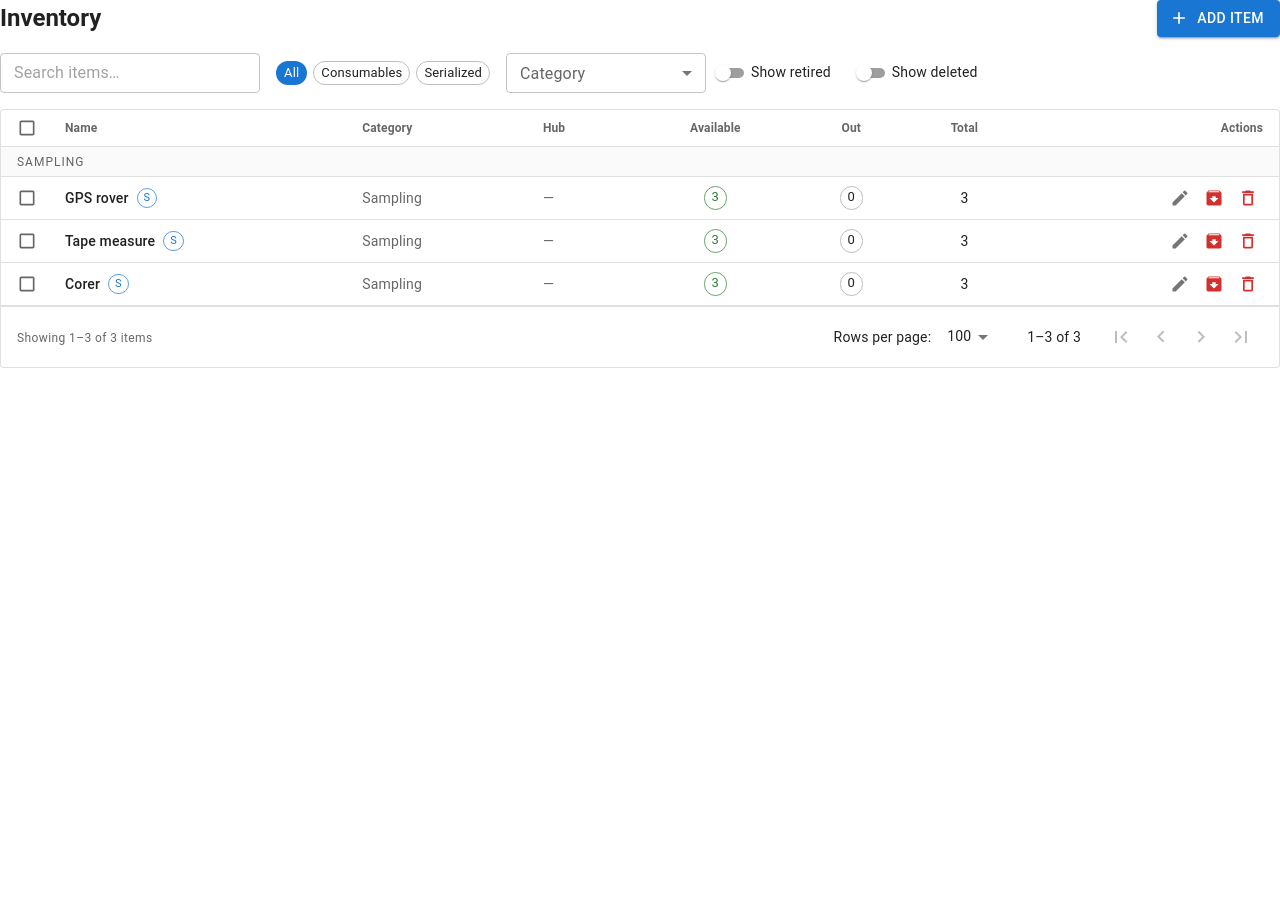
Test: Delete — the dialog, Undo and refusals (D-o · D-s) › Undo on the toast posts restore
Expected: the text "GPS rover" is shown, [65,188,129,208]
Click the button named "Delete" in the row of "GPS rover".
click(1248, 198)  # box [1233,183,1263,213]
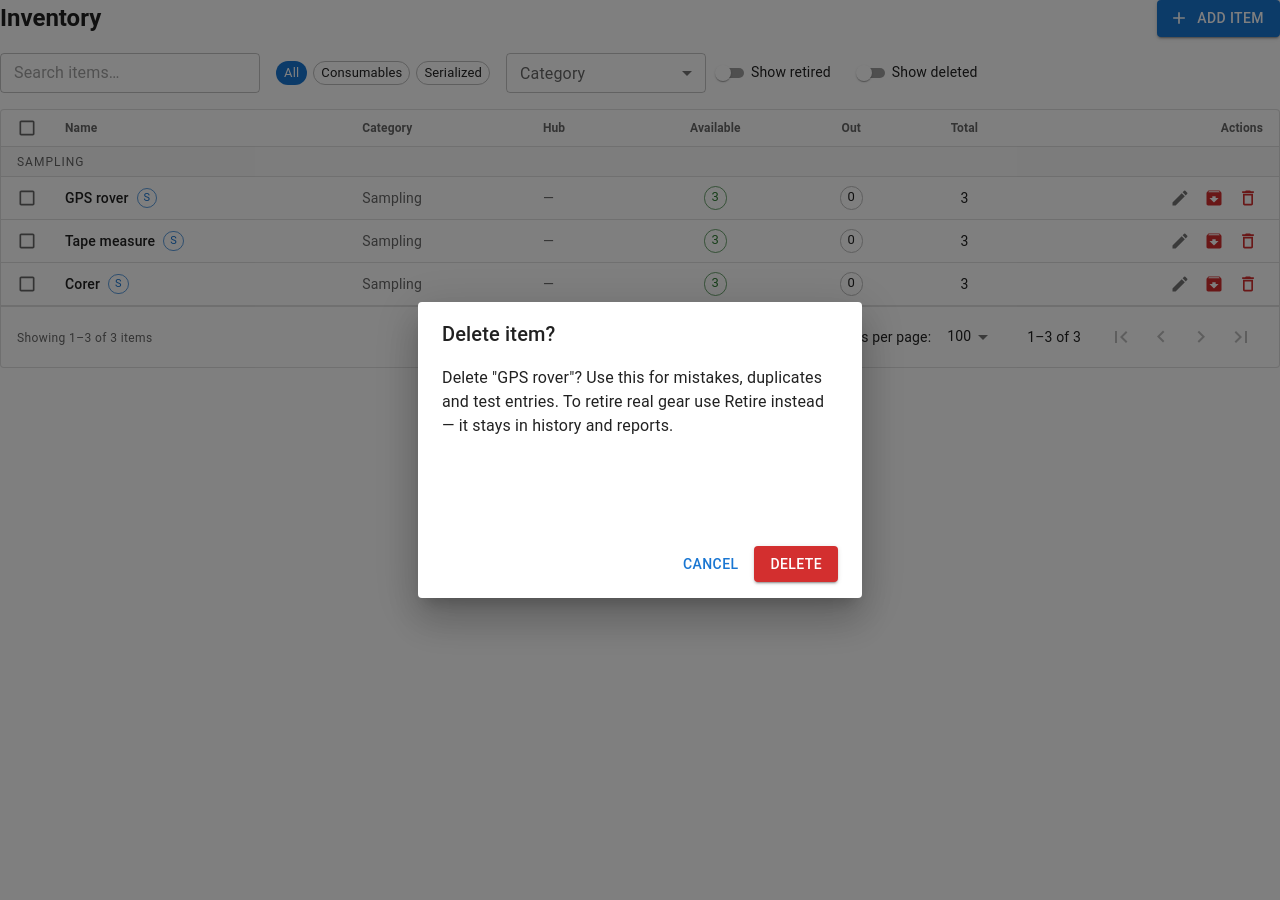
Click the button "Delete".
click(796, 564)  # box [754,546,838,582]
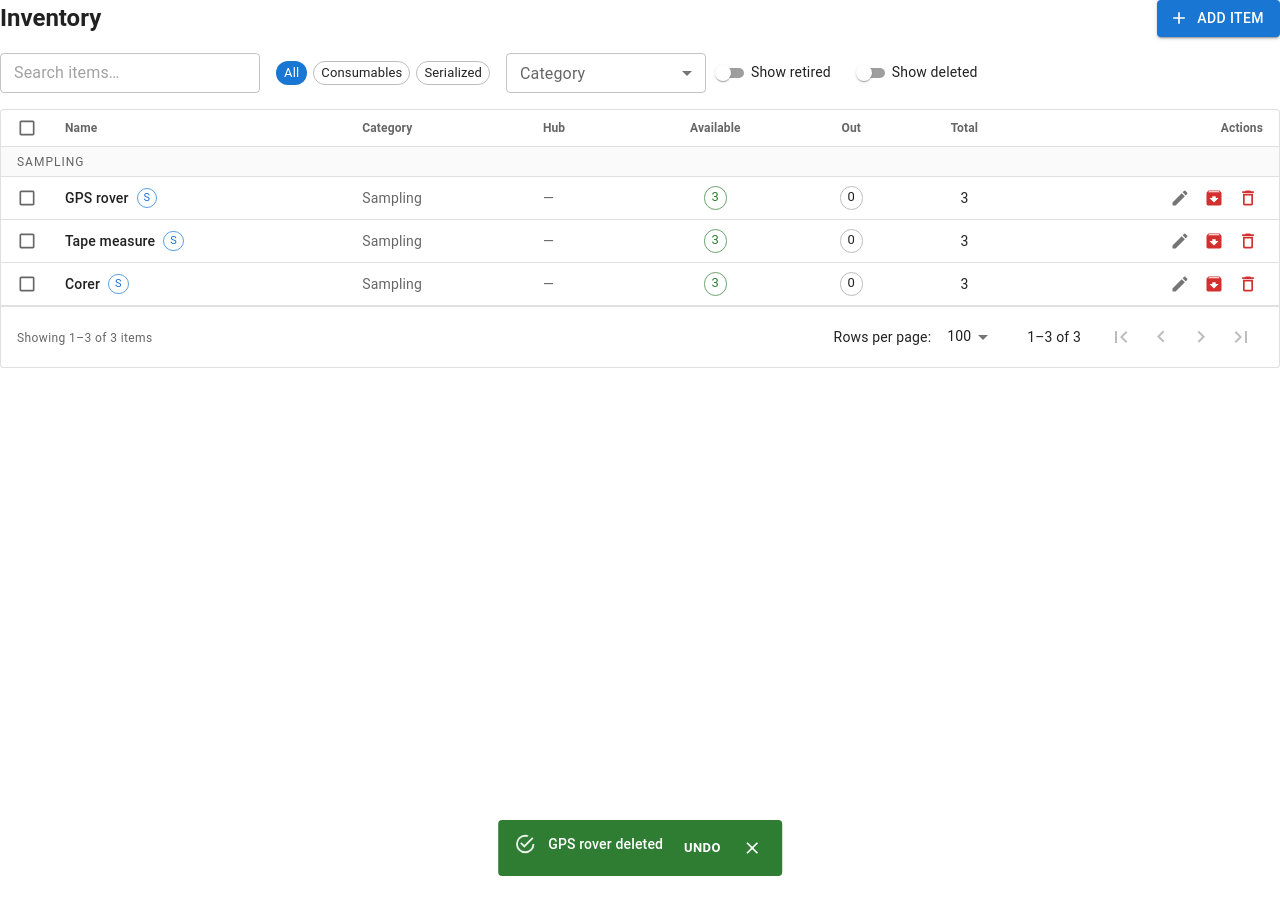
Click the button "Undo".
click(702, 848)  # box [679,826,726,870]
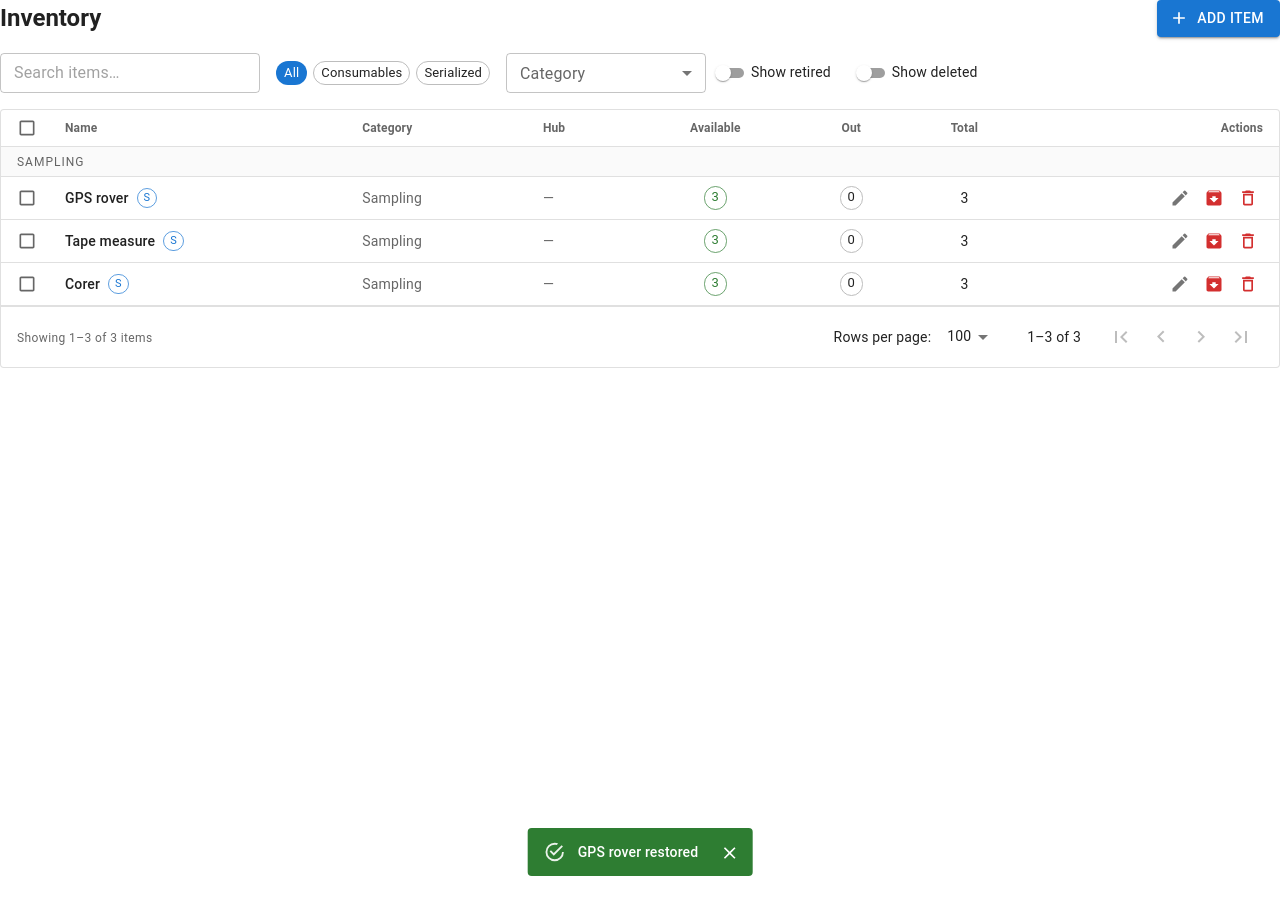
Result: the text "GPS rover restored" is shown at [578,844,698,860]
